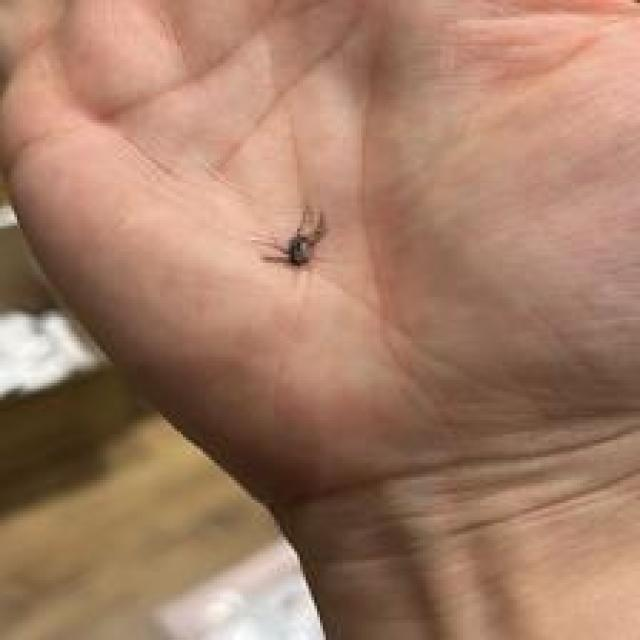Aedes albopictus: (262, 204, 327, 270)
